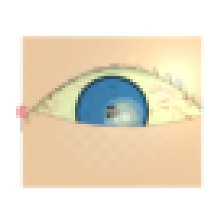corneal_ulcer: (103, 98, 145, 132)
